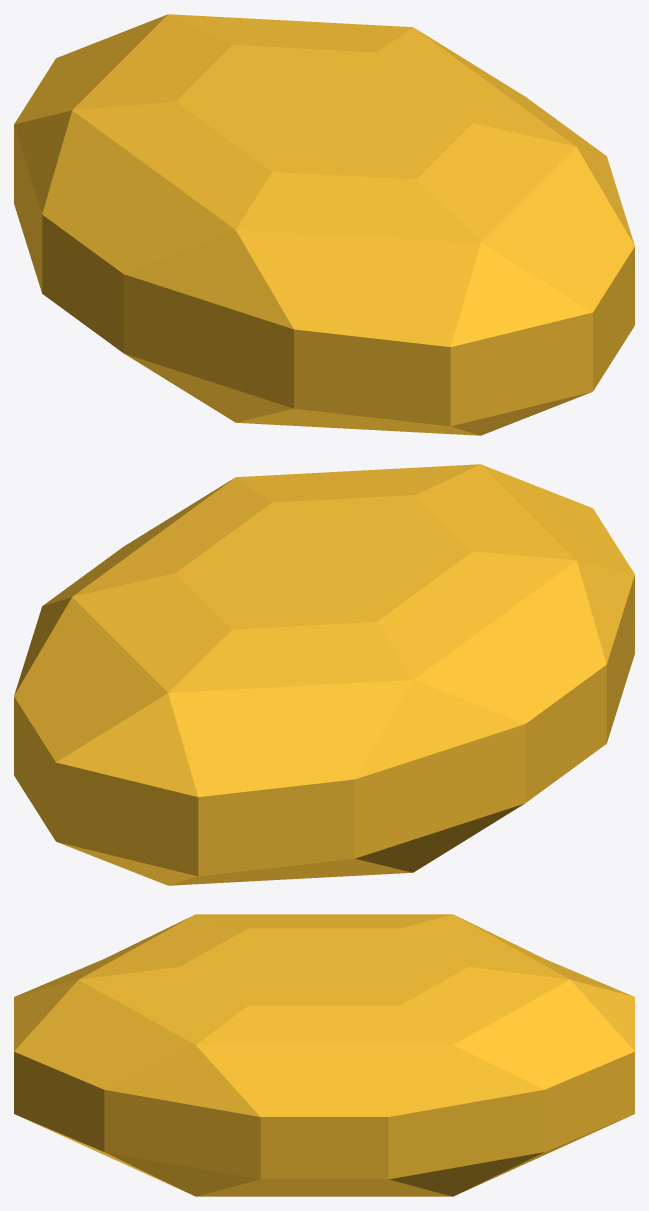
Rendered from Gem_03.glb.
The picture shows the model from 3 angles, top to bottom: view 1: azimuth 30°, elevation 25°; view 2: azimuth 150°, elevation 25°; view 3: azimuth 270°, elevation 25°; orthographic projection. The views are drawn at different scales.
Visible parts, largest first — view 1: Gem_03; view 2: Gem_03; view 3: Gem_03.
Boxes of the visible parts, x1,y1,x2,y2 form: Gem_03: (14,14,634,435); Gem_03: (14,464,634,885); Gem_03: (14,914,634,1196).
Size of what is drawn, in the model's own units: 0.3183 by 0.1436 by 0.4504.
Materials: 1 (1 with a texture image).
